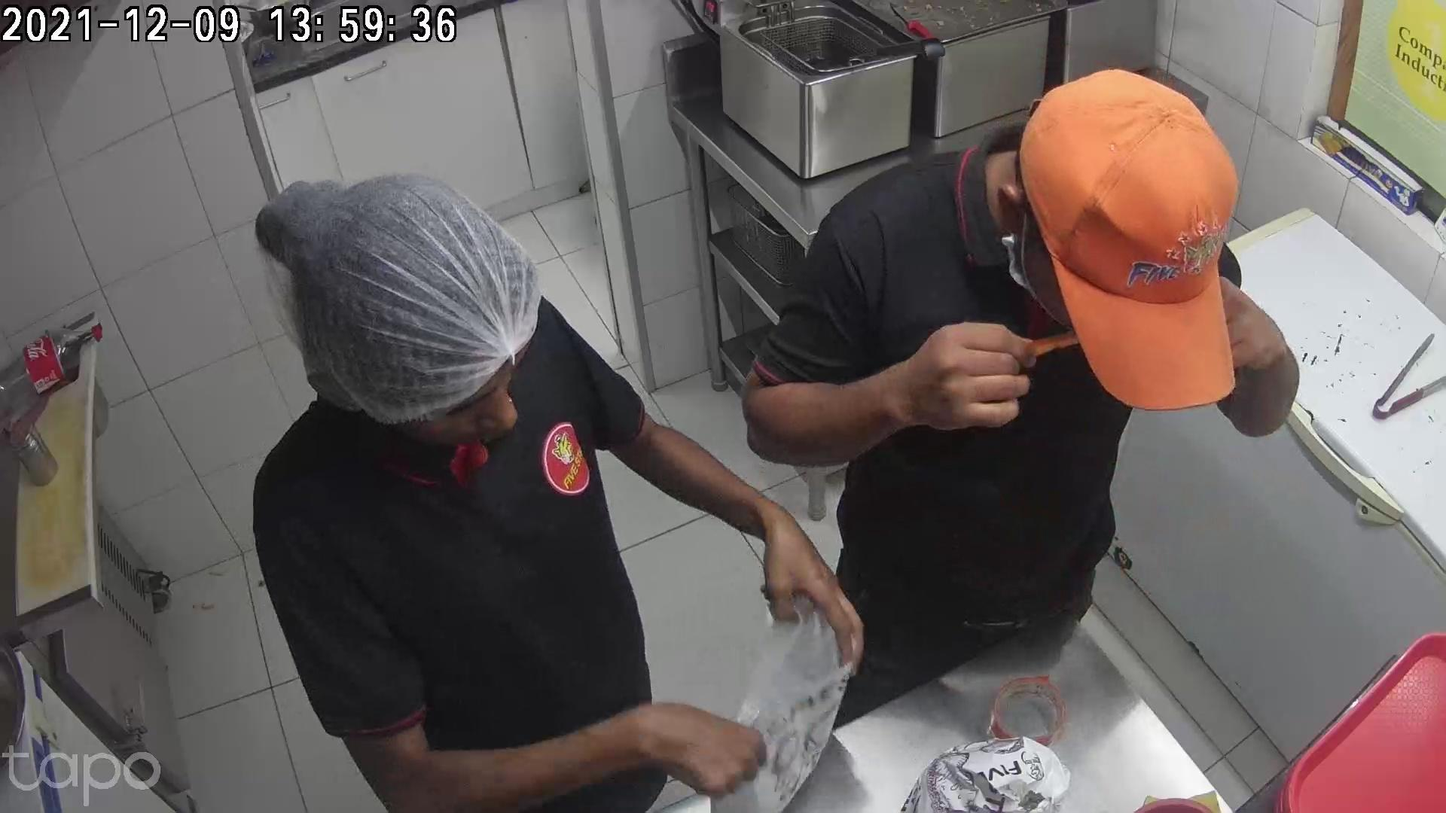no_gloves: (881, 325, 1023, 433)
